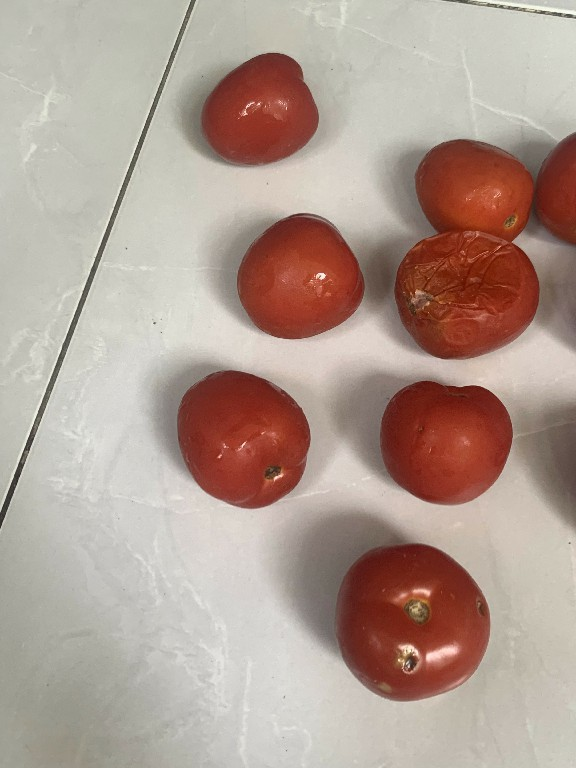NG: (332, 539, 490, 705), (392, 220, 545, 364)
OK: (167, 365, 312, 515), (228, 209, 364, 342), (378, 379, 513, 512), (198, 44, 321, 171), (406, 136, 533, 246)
